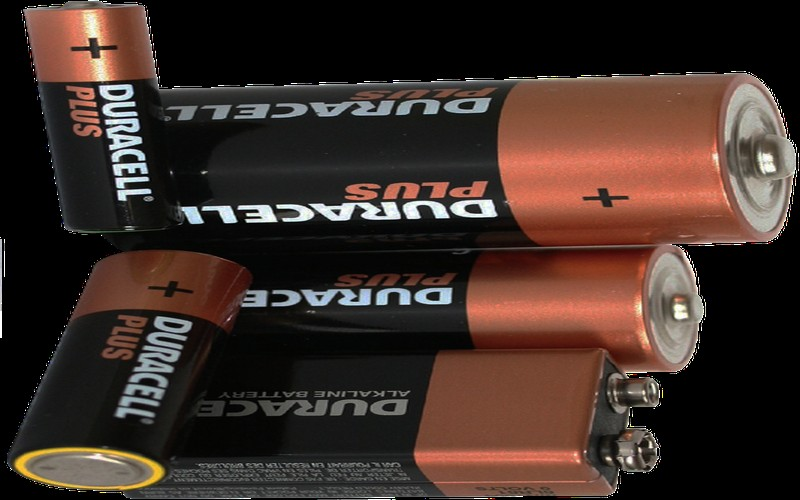Battery: (119, 47, 796, 500), (0, 238, 290, 500), (6, 0, 214, 237)
